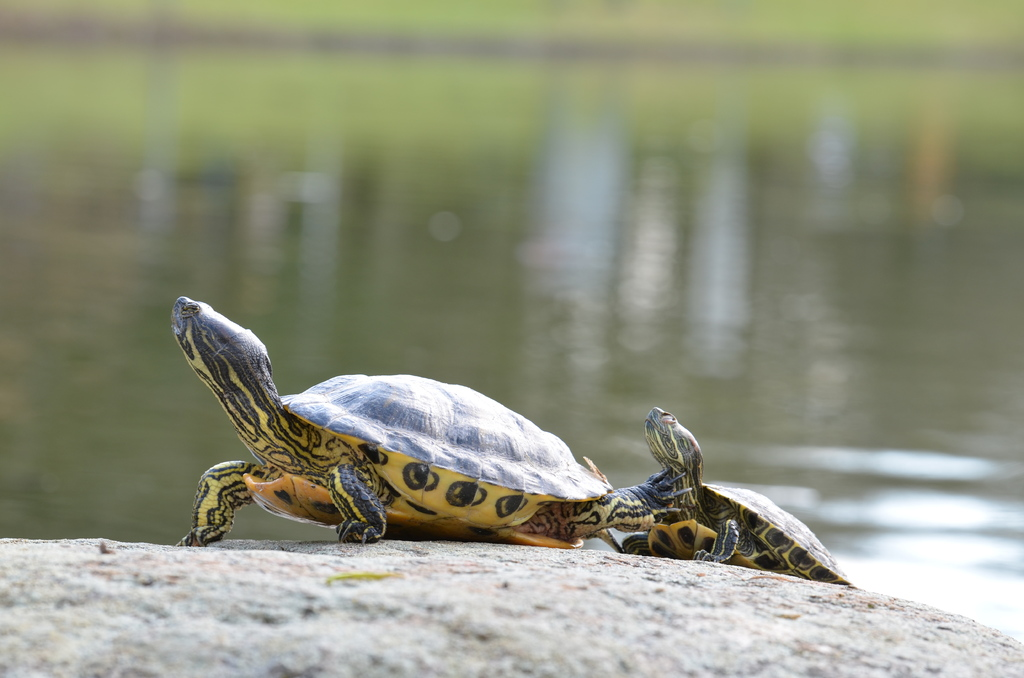Sea turtles: (167, 295, 692, 548), (622, 406, 857, 583)
